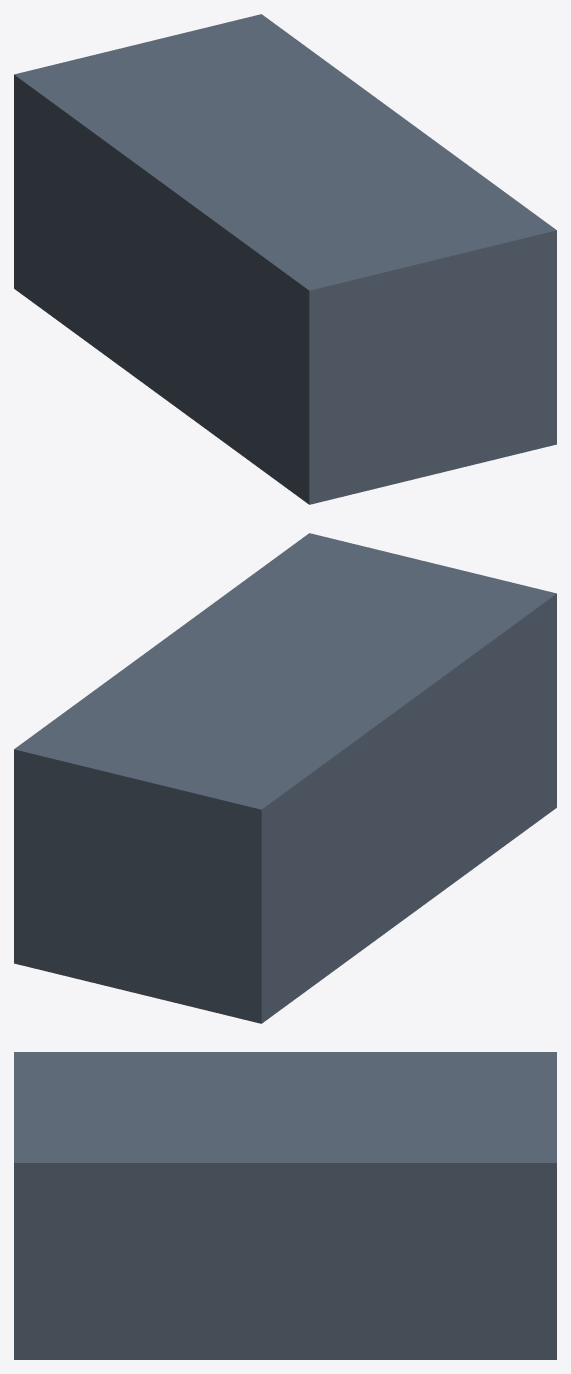
File: battery_cabinet.glb
The picture shows the model from 3 angles, top to bottom: view 1: azimuth 30°, elevation 25°; view 2: azimuth 150°, elevation 25°; view 3: azimuth 270°, elevation 25°; orthographic projection. The views are drawn at different scales.
Visible parts, largest first — view 1: cabinet; view 2: cabinet; view 3: cabinet.
Boxes of the visible parts, x1=… form: cabinet: x1=14, y1=14, x2=556, y2=504; cabinet: x1=14, y1=533, x2=556, y2=1023; cabinet: x1=14, y1=1052, x2=556, y2=1359.
Size of the model in its own units: 0.75 by 0.64 by 1.55.
